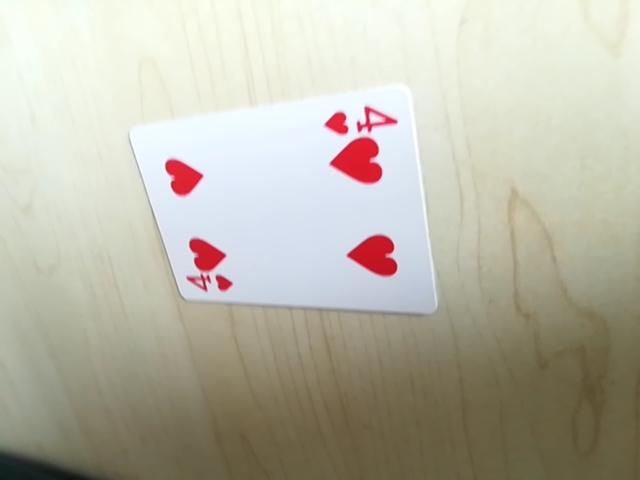hx 4: (322, 95, 403, 138), (177, 266, 235, 299)
